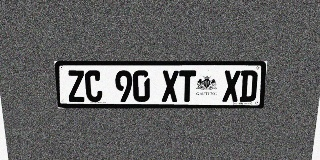0: (133, 70, 150, 102)
9: (115, 70, 133, 102)
C: (84, 70, 103, 102)
D: (239, 70, 258, 102)
T: (179, 70, 196, 102)
X: (222, 70, 241, 102), (162, 70, 179, 102)
Z: (67, 70, 86, 102)
